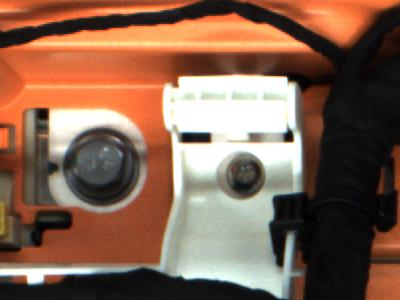nut_b: (54, 117, 158, 208)
